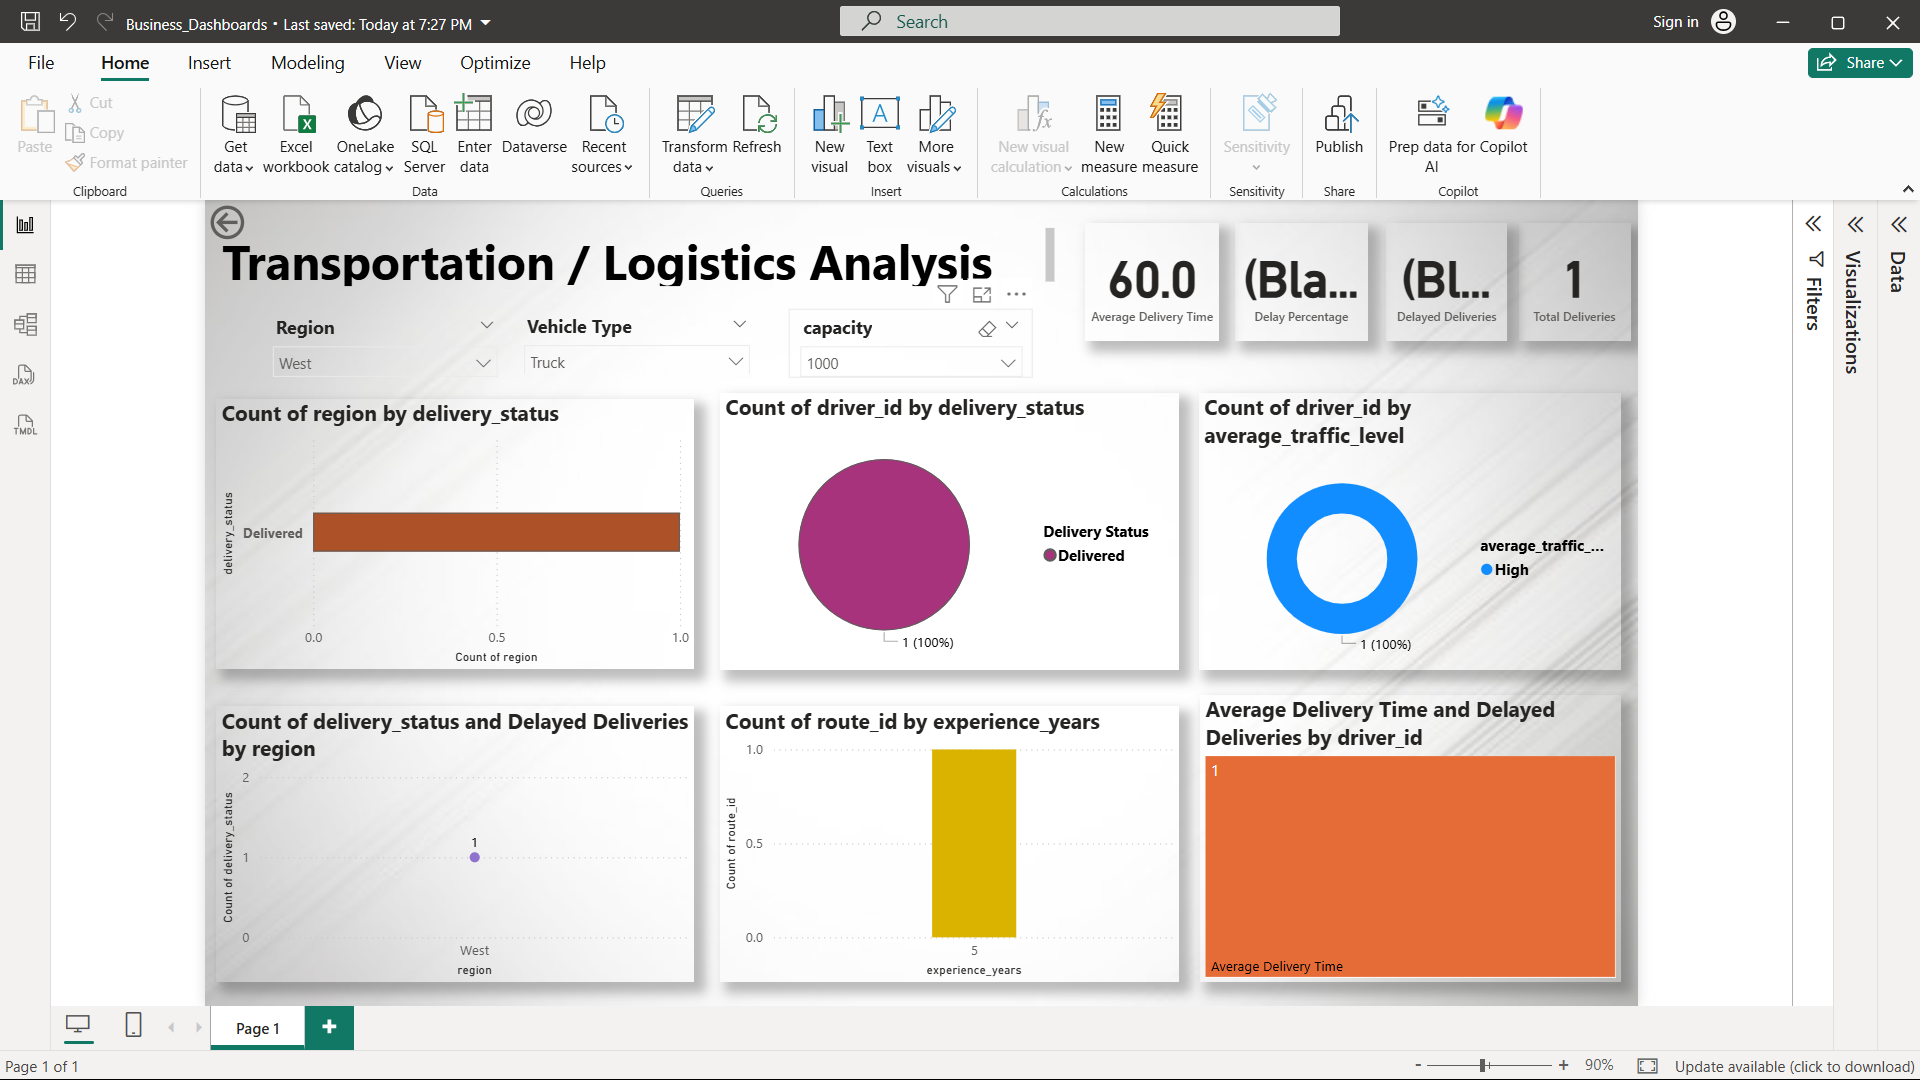

The page's visual inventory and layout, read from the dashboard file:
{"tool":"powerbi","page":{"name":"Page 1","canvas":[1280,720],"ordinal":0},"visuals":[{"type":"card","fields":{"Values":["transportation_logistics_analysis_project deliveries.Average Delivery Time"]},"box":[785.7,20.2,120.2,106],"z":0},{"type":"card","fields":{"Values":["transportation_logistics_analysis_project deliveries.Delay Percentage"]},"box":[920.2,20.2,119,106],"z":1000},{"type":"card","fields":{"Values":["transportation_logistics_analysis_project deliveries.Delayed Deliveries"]},"box":[1054.8,20.2,108.3,106],"z":2000},{"type":"card","fields":{"Values":["transportation_logistics_analysis_project deliveries.Total Deliveries"]},"box":[1173.8,20.2,100,106],"z":3000},{"type":"barChart","fields":{"Y":["CountNonNull(transportation_logistics_analysis_project orders.region)"],"Category":["transportation_logistics_analysis_project deliveries.delivery_status"]},"box":[9.5,177.4,427.4,241.7],"z":4000},{"type":"pieChart","fields":{"Y":["CountNonNull(transportation_logistics_analysis_project deliveries.driver_id)"],"Category":["transportation_logistics_analysis_project deliveries.delivery_status"]},"box":[459.5,171.4,410.7,247.6],"z":5000},{"type":"donutChart","fields":{"Category":["transportation_logistics_analysis_project routes.average_traffic_level"],"Y":["CountNonNull(transportation_logistics_analysis_project deliveries.driver_id)"]},"box":[888.1,171.4,377.4,247.6],"z":6000},{"type":"treemap","fields":{"Group":["transportation_logistics_analysis_project deliveries.driver_id"],"Values":["transportation_logistics_analysis_project deliveries.Average Delivery Time","transportation_logistics_analysis_project deliveries.Delayed Deliveries"]},"box":[889.3,441.7,376.2,257.1],"z":7000},{"type":"actionButton","box":[0,0,100,40],"z":8000},{"type":"lineChart","fields":{"Y":["CountNonNull(transportation_logistics_analysis_project deliveries.delivery_status)"],"Category":["transportation_logistics_analysis_project orders.region"]},"box":[9.5,452.4,427.4,246.4],"z":9000},{"type":"lineStackedColumnComboChart","fields":{"Category":["transportation_logistics_analysis_project drivers.experience_years"],"Y":["CountNonNull(transportation_logistics_analysis_project deliveries.route_id)"]},"box":[459.5,452.4,410.7,246.4],"z":10000},{"type":"slicer","fields":{"Values":["transportation_logistics_analysis_project orders.region"]},"box":[50,97.7,220.9,60.5],"z":11000},{"type":"slicer","fields":{"Values":["transportation_logistics_analysis_project vehicles.vehicle_type"]},"box":[274.4,96.5,222.1,59.3],"z":12000},{"type":"textbox","box":[9.5,20.2,753.6,61.9],"z":13000},{"type":"slicer","fields":{"Values":["transportation_logistics_analysis_project vehicles.capacity"]},"box":[520.9,97.7,218.6,60.5],"z":13001}]}

Visuals, with their boxes on the page's 1280x720 design canvas (x1, y1, x2, y2). These are canvas units, not pixel positions in the 1920x1080 screenshot, which may show the page scaled, cropped or inside an application window:
card - transportation_logistics_analysis_project deliveries.Average Delivery Time: 786,20,906,126
card - transportation_logistics_analysis_project deliveries.Delay Percentage: 920,20,1039,126
card - transportation_logistics_analysis_project deliveries.Delayed Deliveries: 1055,20,1163,126
card - transportation_logistics_analysis_project deliveries.Total Deliveries: 1174,20,1274,126
barChart - CountNonNull(transportation_logistics_analysis_project orders.region) x transportation_logistics_analysis_project deliveries.delivery_status: 10,177,437,419
pieChart - CountNonNull(transportation_logistics_analysis_project deliveries.driver_id) x transportation_logistics_analysis_project deliveries.delivery_status: 460,171,870,419
donutChart - transportation_logistics_analysis_project routes.average_traffic_level x CountNonNull(transportation_logistics_analysis_project deliveries.driver_id): 888,171,1266,419
treemap - transportation_logistics_analysis_project deliveries.driver_id x transportation_logistics_analysis_project deliveries.Average Delivery Time: 889,442,1266,699
actionButton: 0,0,100,40
lineChart - CountNonNull(transportation_logistics_analysis_project deliveries.delivery_status) x transportation_logistics_analysis_project orders.region: 10,452,437,699
lineStackedColumnComboChart - transportation_logistics_analysis_project drivers.experience_years x CountNonNull(transportation_logistics_analysis_project deliveries.route_id): 460,452,870,699
slicer - transportation_logistics_analysis_project orders.region: 50,98,271,158
slicer - transportation_logistics_analysis_project vehicles.vehicle_type: 274,96,496,156
textbox: 10,20,763,82
slicer - transportation_logistics_analysis_project vehicles.capacity: 521,98,740,158
